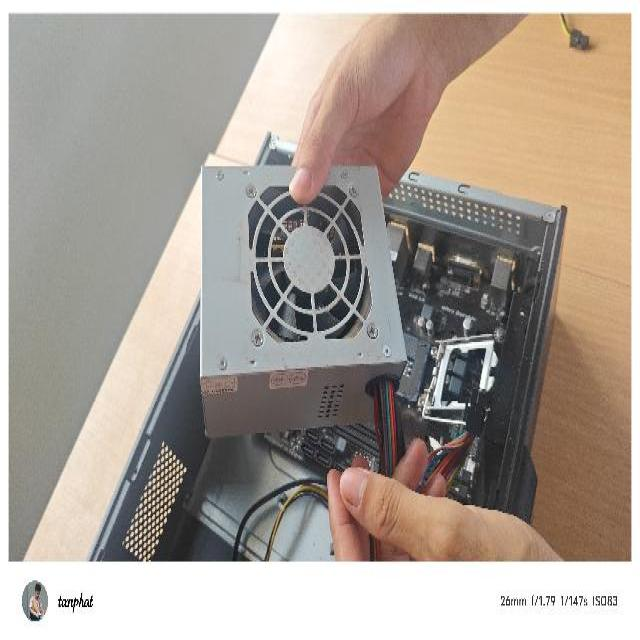PSU: (196, 158, 407, 444)
